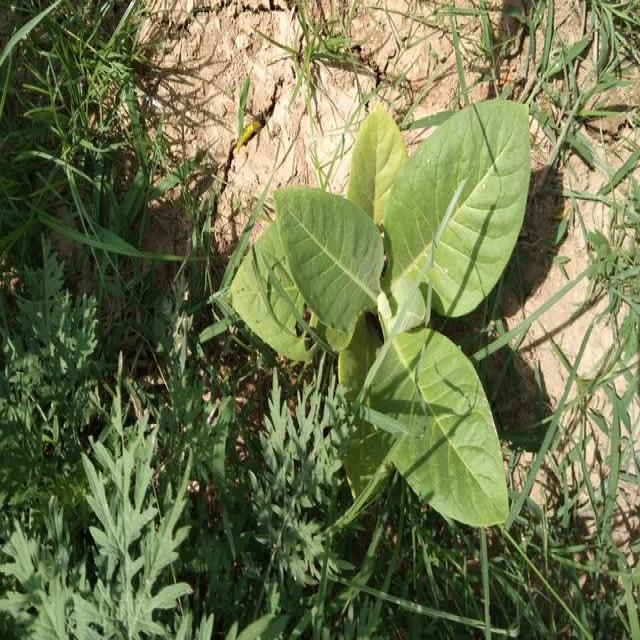crop: (238, 120, 537, 508)
